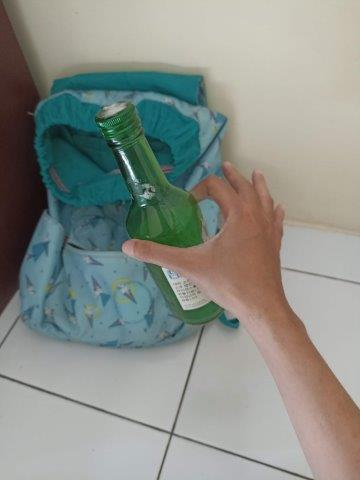botolkaca: (94, 102, 228, 324)
